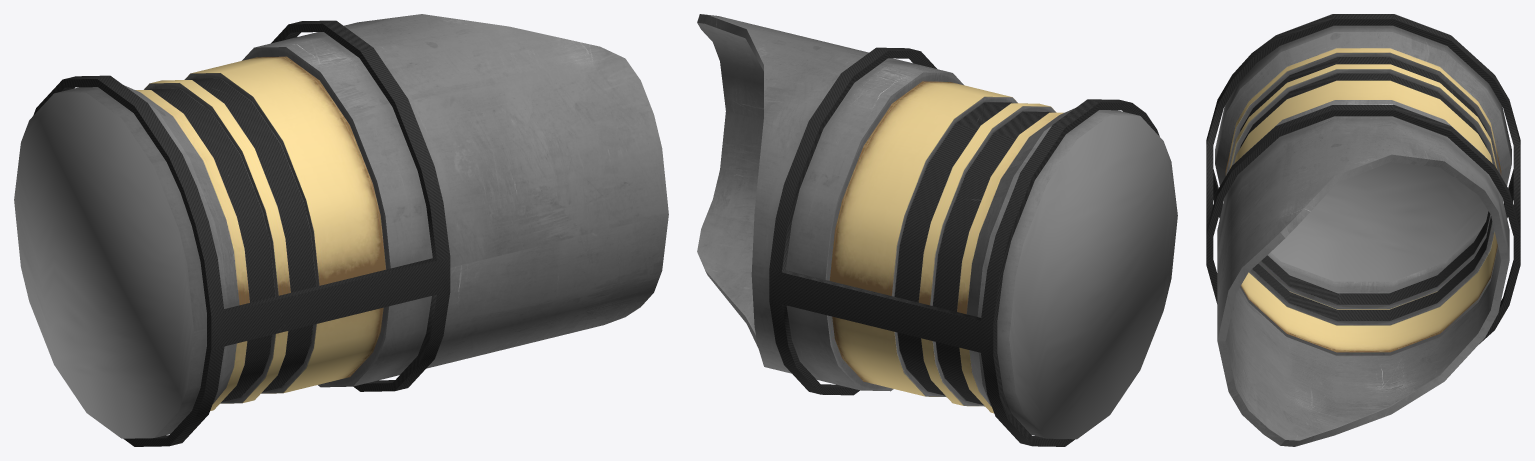
Rendered from guard_1_c_b.glb.
The picture shows the model from 3 angles, left to right: view 1: azimuth 30°, elevation 25°; view 2: azimuth 150°, elevation 25°; view 3: azimuth 270°, elevation 25°; orthographic projection. The views are drawn at different scales.
Visible parts, largest first — view 1: guard_1_c_b_lod0; view 2: guard_1_c_b_lod0; view 3: guard_1_c_b_lod0.
Boxes of the visible parts, left/top/right/bottom form: guard_1_c_b_lod0: left=14, top=14, right=668, bottom=446; guard_1_c_b_lod0: left=697, top=14, right=1177, bottom=446; guard_1_c_b_lod0: left=1206, top=14, right=1520, bottom=446.
Size of what is drawn, in the model's own units: 0.0473 by 0.0324 by 0.0328.
1 material, 1 textured.
